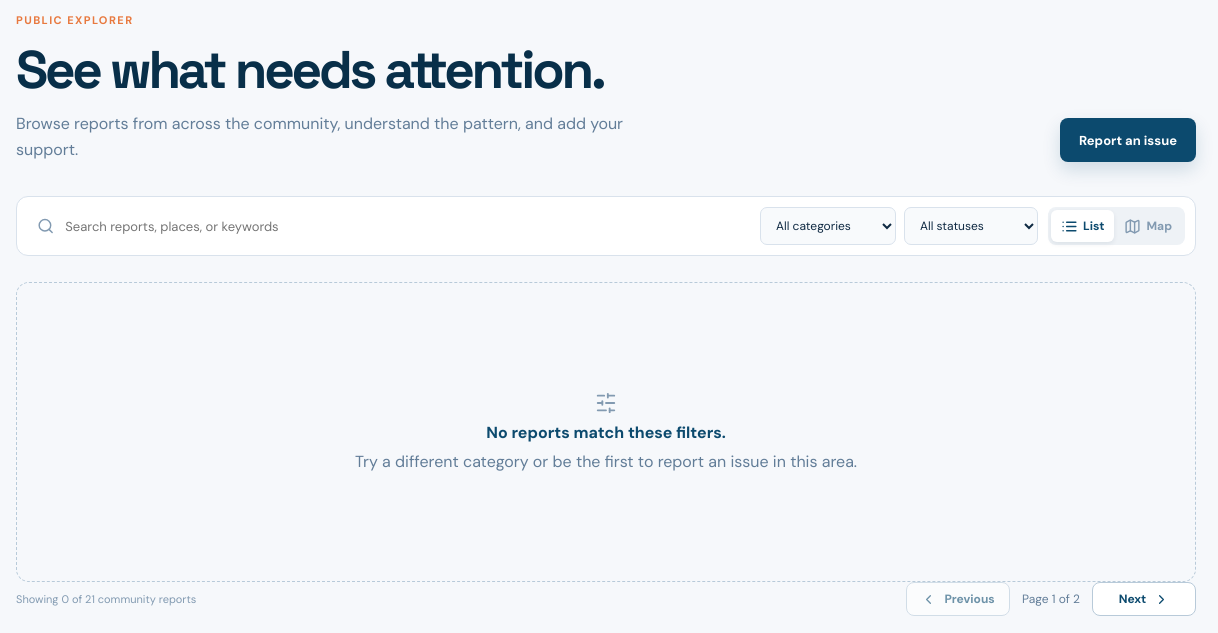
Explorer pagination and filters › moves between pages and disables navigation at the boundaries
Expected: the button with aria-label "previous page" is disabled, top-left (906, 582), bottom-right (1010, 616)
Click the button with aria-label "next page": click(1144, 599) top-left (1092, 582), bottom-right (1196, 616)
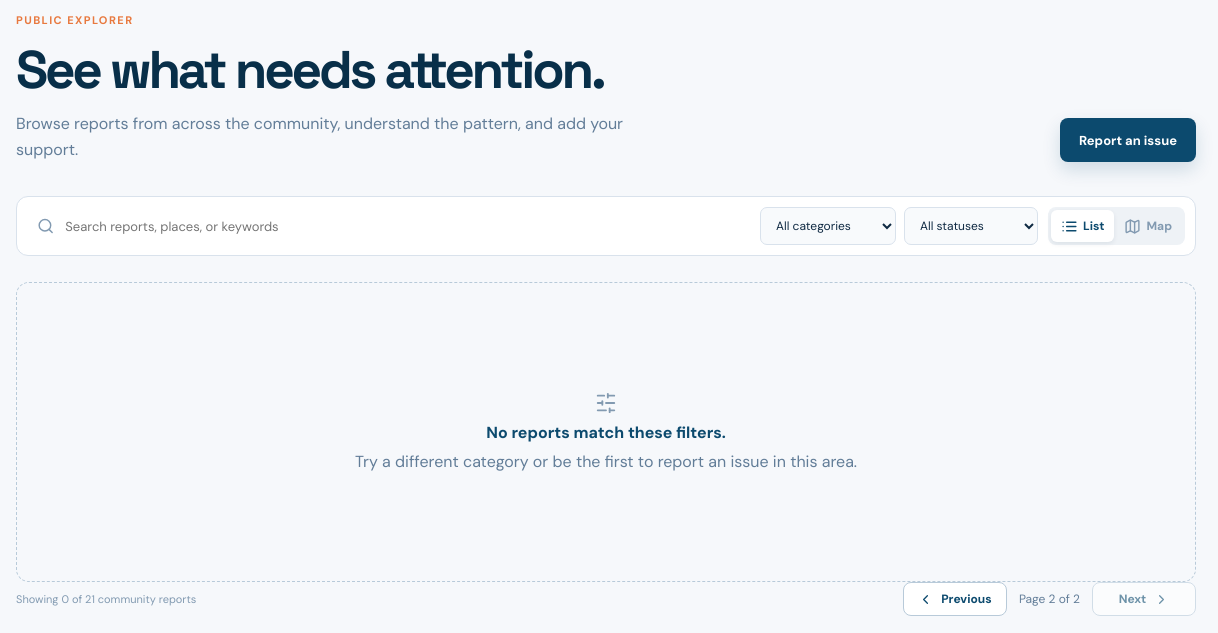
Result: the button with aria-label "previous page" is enabled at top-left (903, 582), bottom-right (1007, 616)
Result: the button with aria-label "next page" is disabled at top-left (1092, 582), bottom-right (1196, 616)
